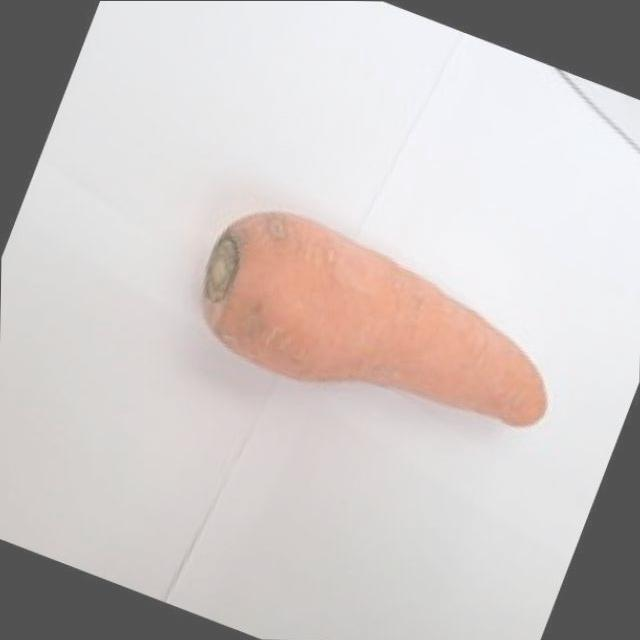carrot: (158, 164, 594, 477)
